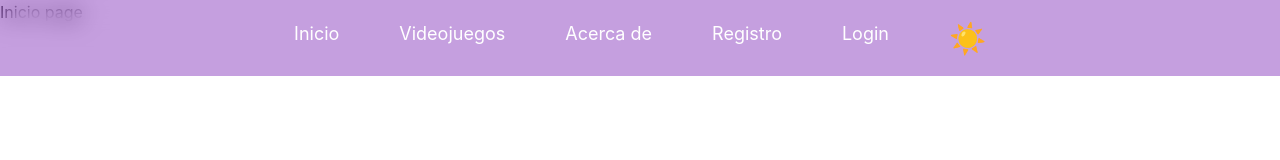
Scenario: Layout navigation › redirige correctamente a Registro
Click the link "Registro": (747, 34) [712, 23, 782, 44]
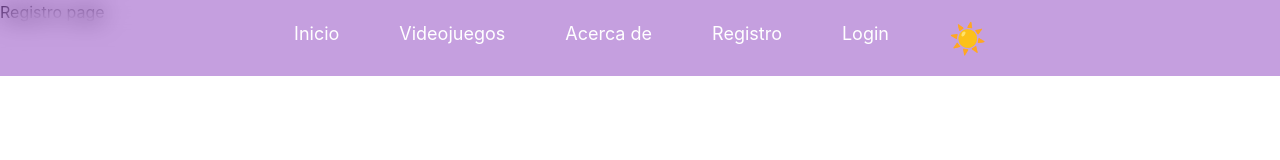
Result: the text "Registro page" is shown at [0, 2, 105, 22]
